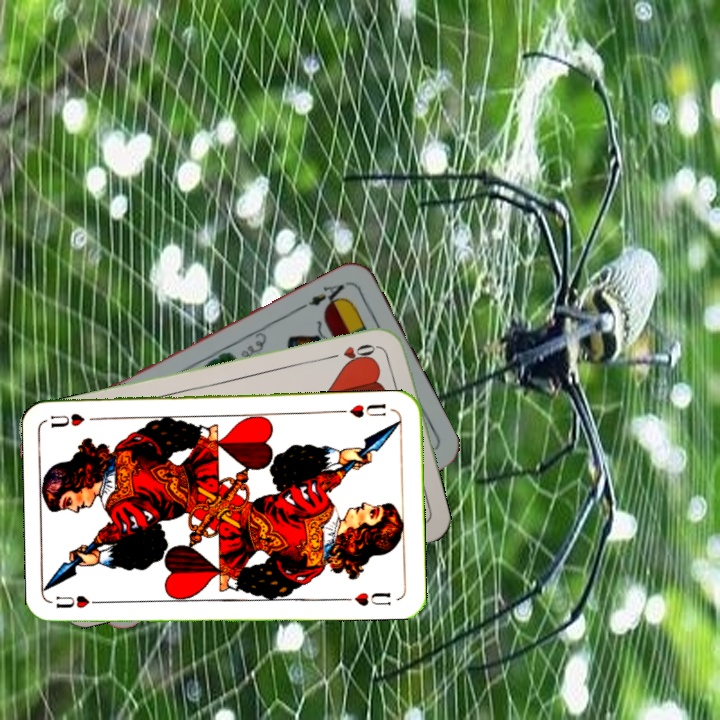EA: (296, 277, 351, 312)
HO: (323, 340, 382, 363)
HU: (52, 591, 110, 611), (337, 400, 389, 420)
